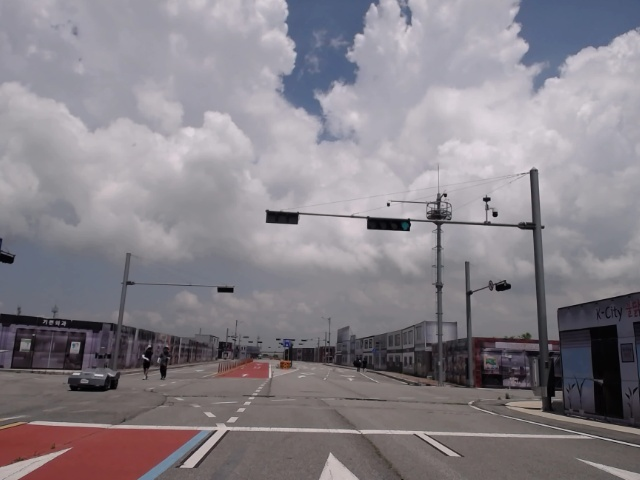straight_green_4: (367, 217, 411, 231)
